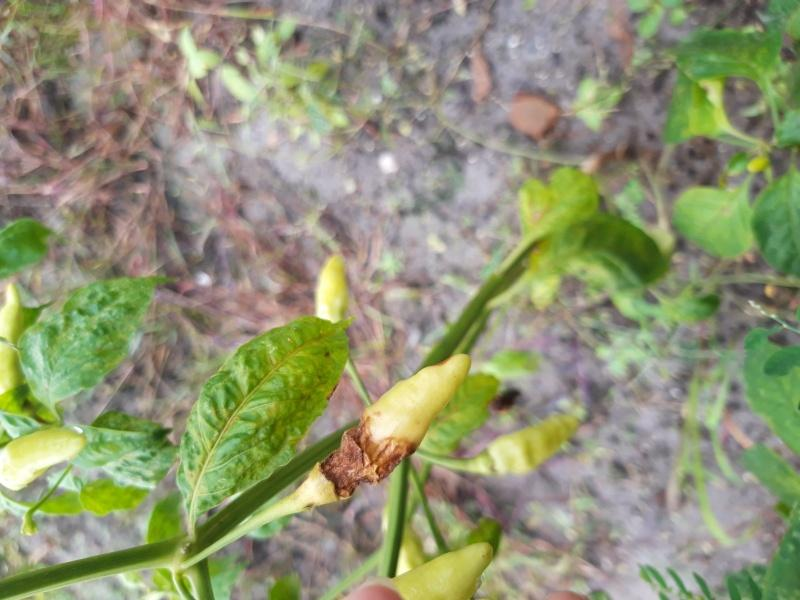antraknosa: (296, 352, 475, 509)
cabai_normal: (484, 415, 581, 476), (1, 425, 84, 494), (315, 256, 348, 326)
